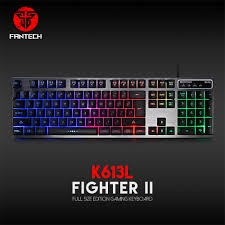keyboard: (9, 71, 217, 142)
